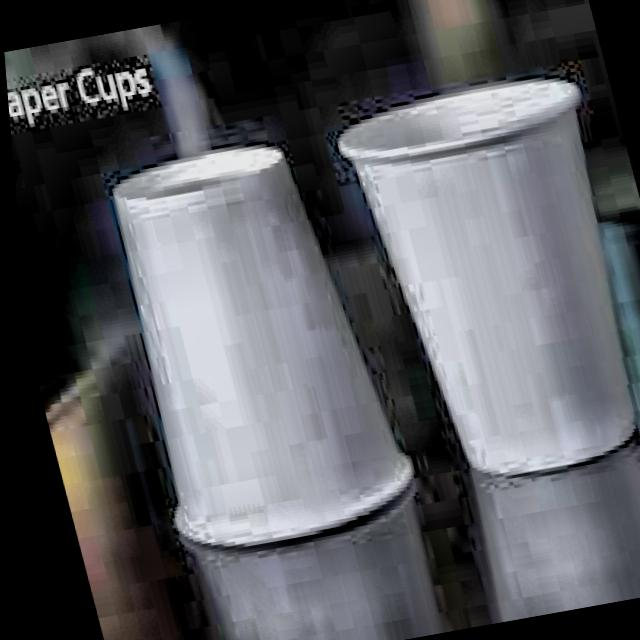Cup: (82, 122, 436, 576), (330, 60, 640, 504)
